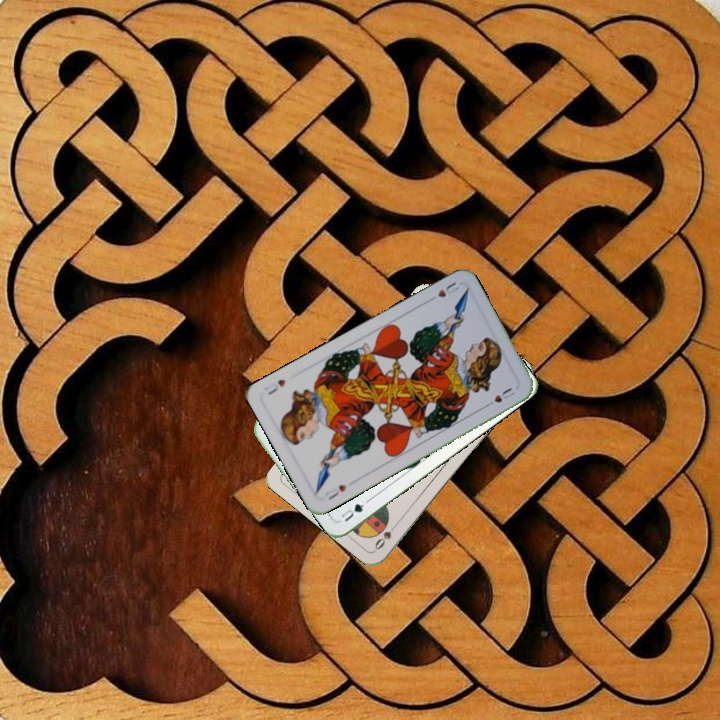GU: (337, 496, 372, 525)
HU: (424, 278, 462, 304), (321, 481, 350, 502)
SO: (370, 518, 401, 552)
